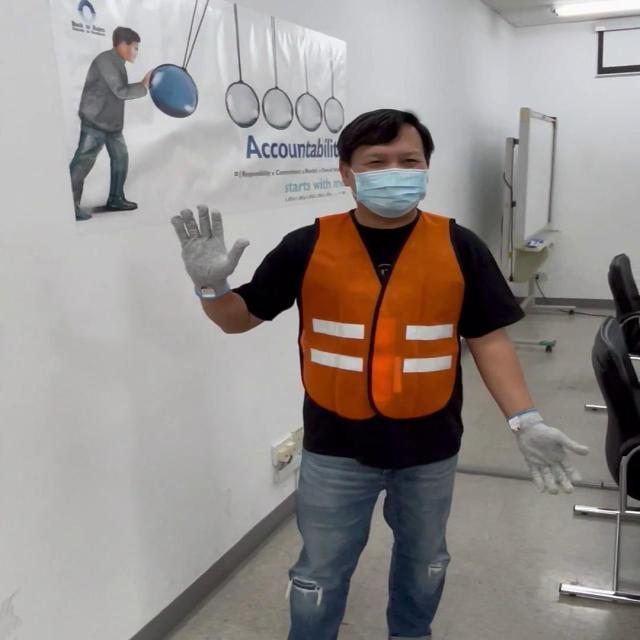gloved_hand: (505, 404, 591, 498), (175, 208, 265, 294)
